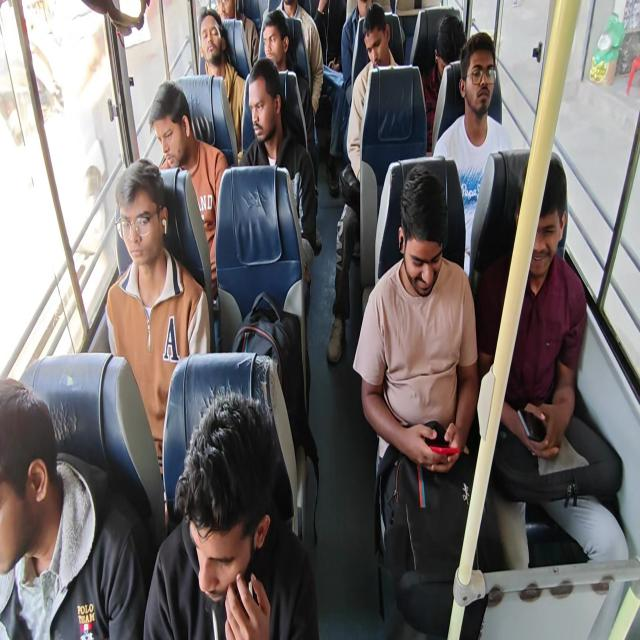person: (352, 164, 489, 637), (476, 150, 629, 570), (143, 386, 319, 639), (0, 376, 146, 638), (104, 158, 210, 511), (326, 4, 400, 364), (432, 31, 513, 276), (239, 57, 319, 302), (148, 79, 229, 302), (258, 9, 319, 192), (326, 0, 373, 197), (197, 8, 246, 155), (422, 14, 466, 154), (273, 0, 324, 115), (340, 0, 373, 106), (215, 0, 259, 69), (313, 0, 346, 72)
